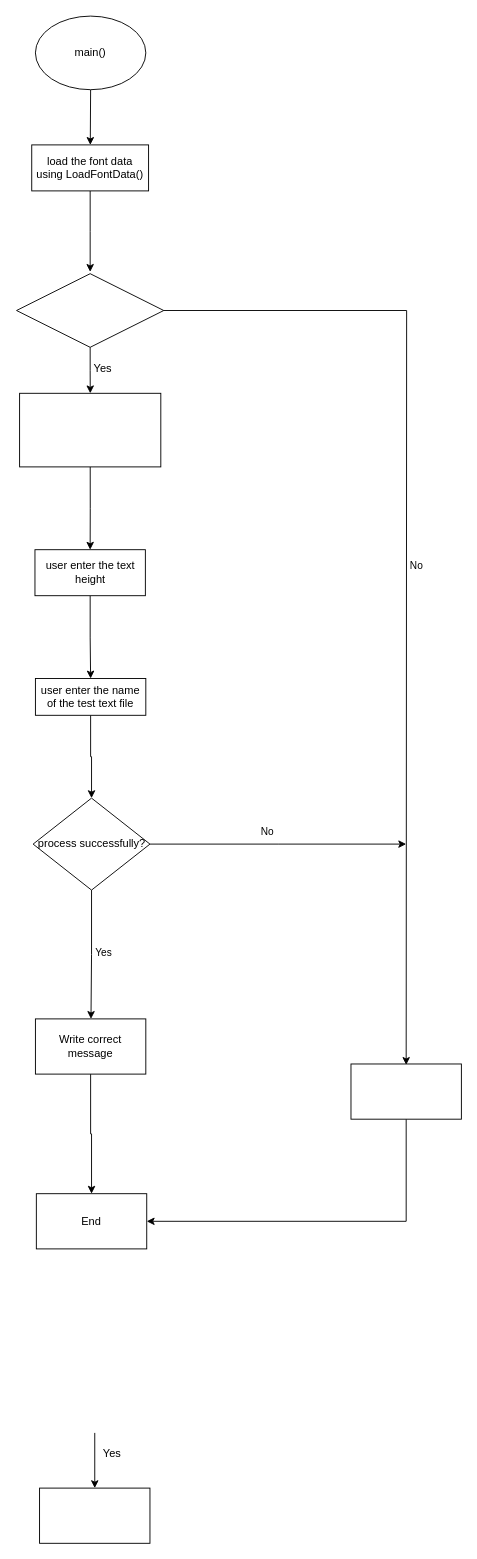
Image size: 477x1559. Some labels were removed from this diagram. Here are the shapes that lost their labels. From the top down, the centre of each, then its label:
At point (90, 310): "Load data successfully?".
At point (90, 429): "Call Perform TextDrawing ()".
At point (405, 1091): "Print error".
At point (94, 1515): "Return 1".
